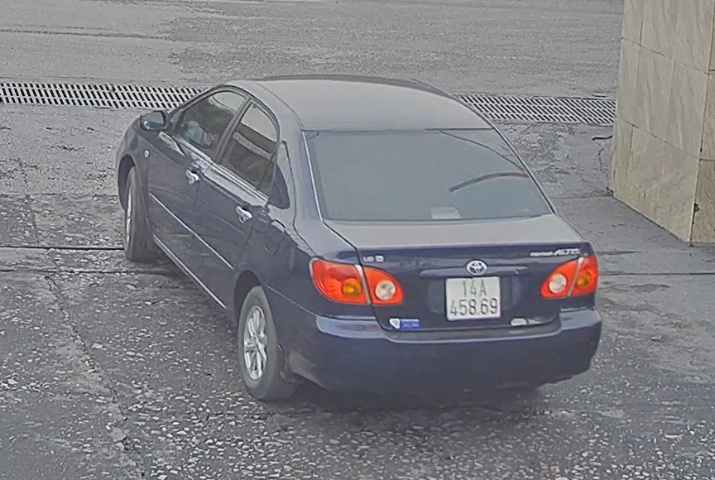vehicle plate: (443, 270, 504, 324)
